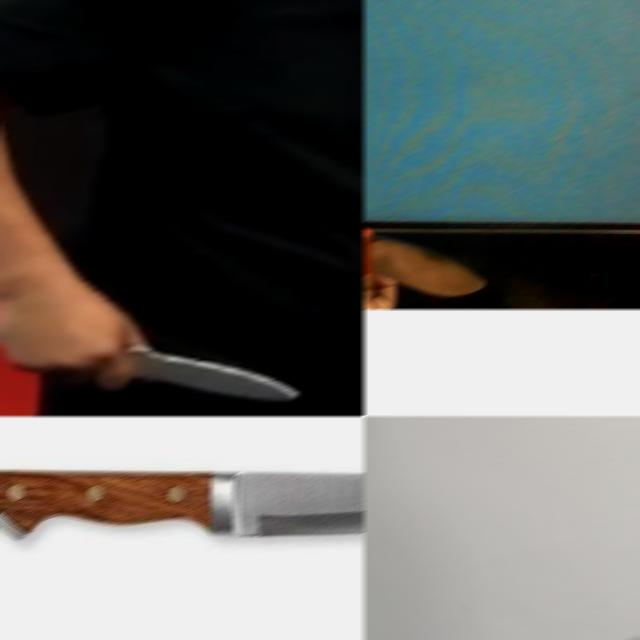Knife: (0, 471, 365, 538), (127, 344, 299, 400), (363, 228, 486, 296)
Knife_Handle: (0, 306, 309, 412)
